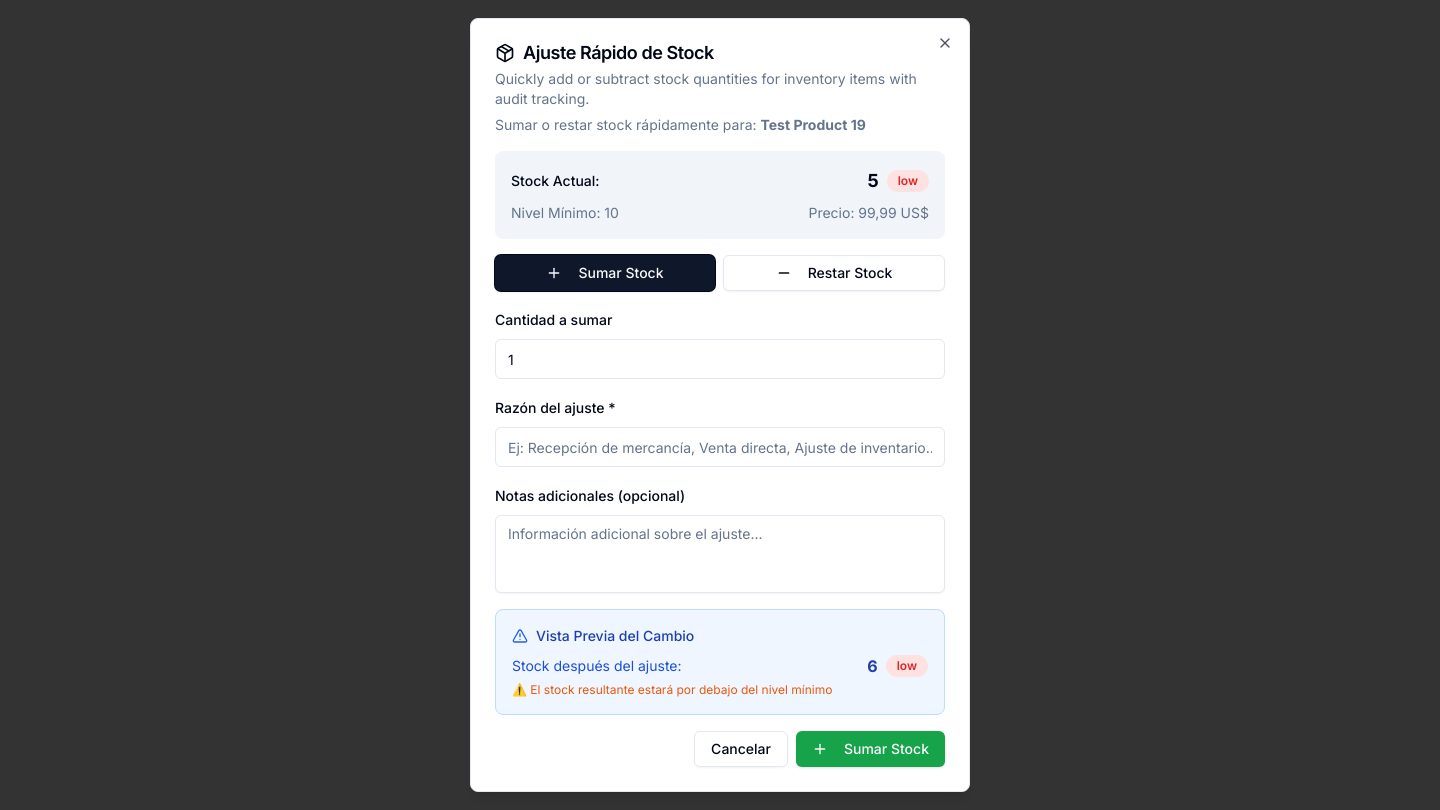
Scenario: QuickStockOperations › shows warning when projected stock will be low
Click the button "Restar Stock": (834, 273) [723,255,945,291]
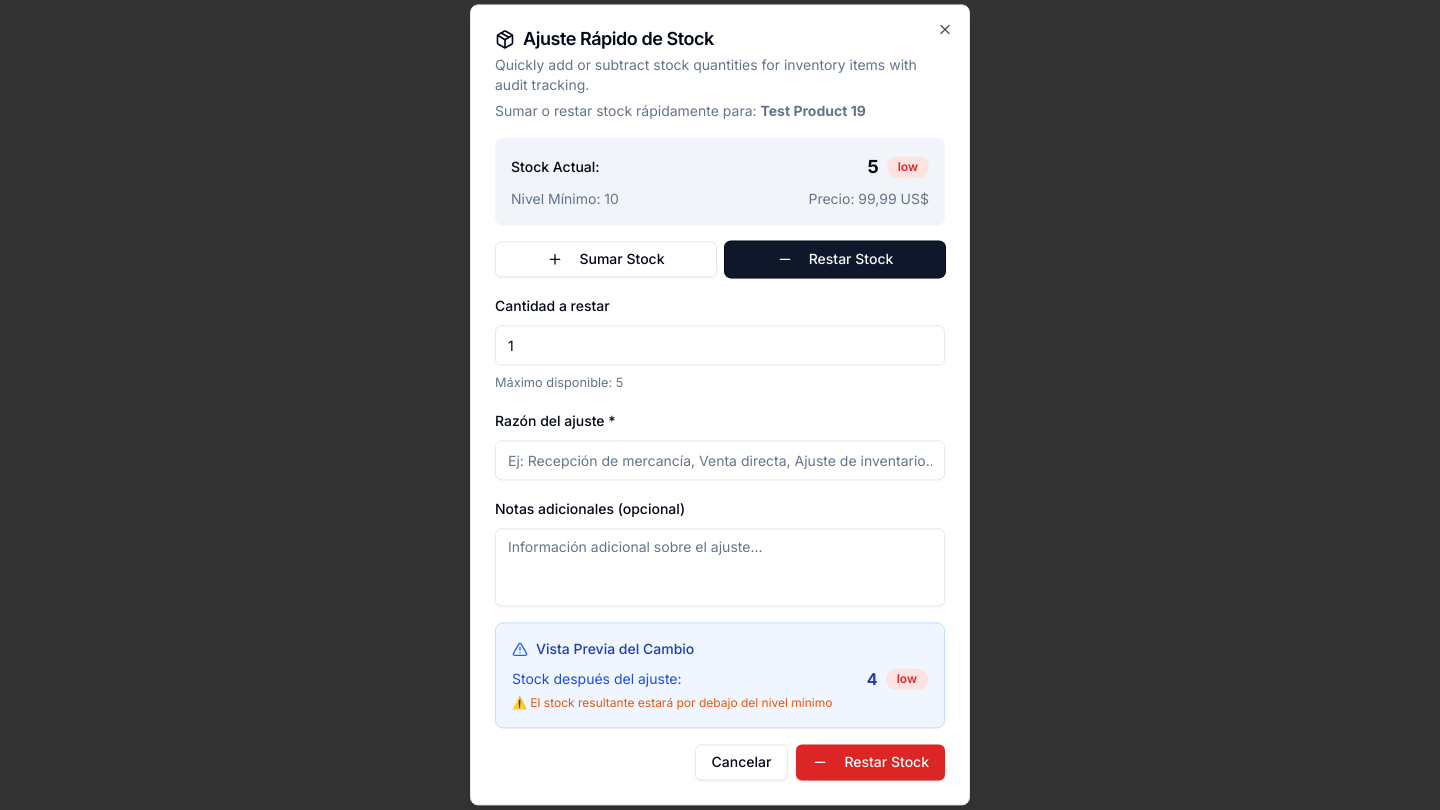
Clear the number field labelled "Cantidad a restar": (720, 345) [495,325,945,365]
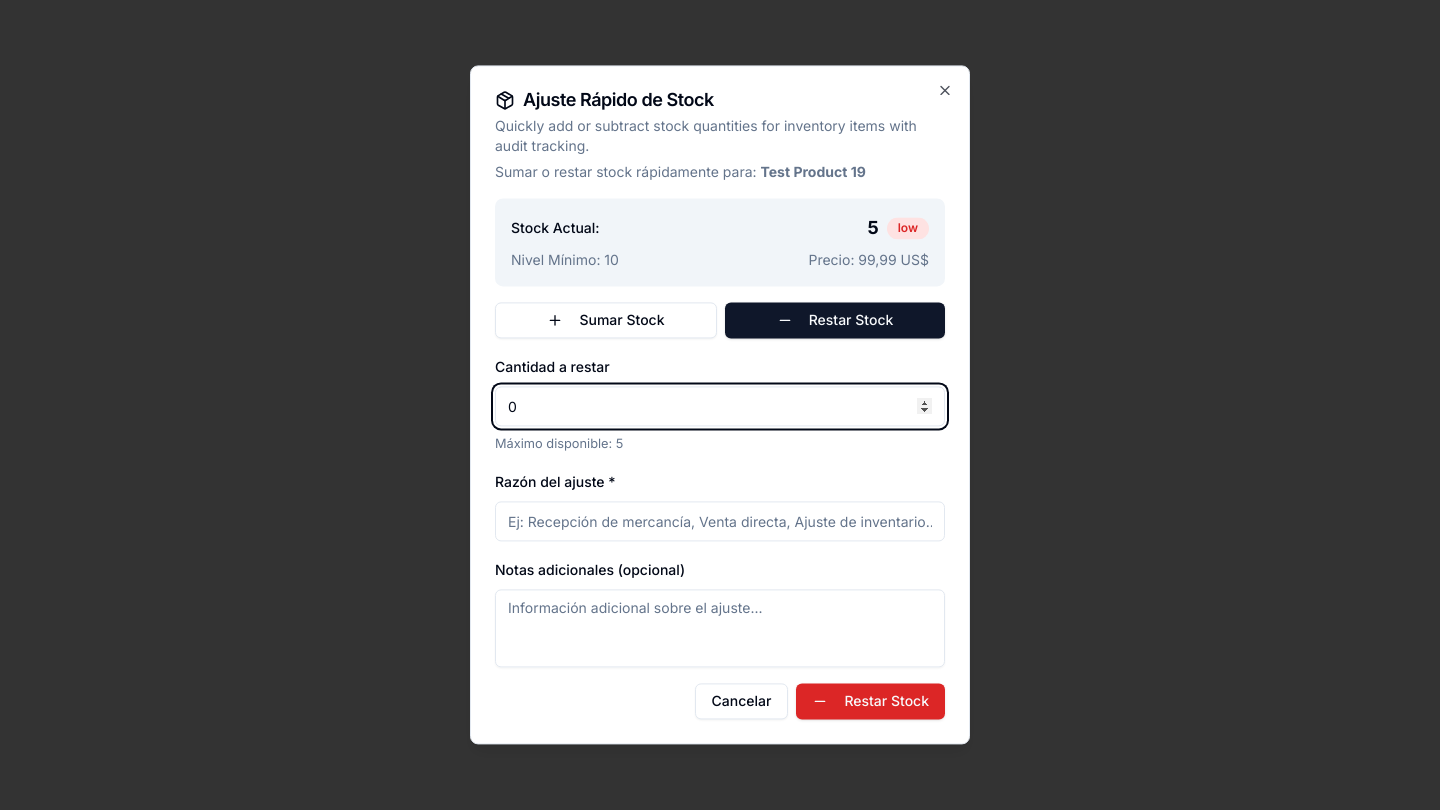
In the number field labelled "Cantidad a restar": (720, 406) [495,386,945,426], type "2"
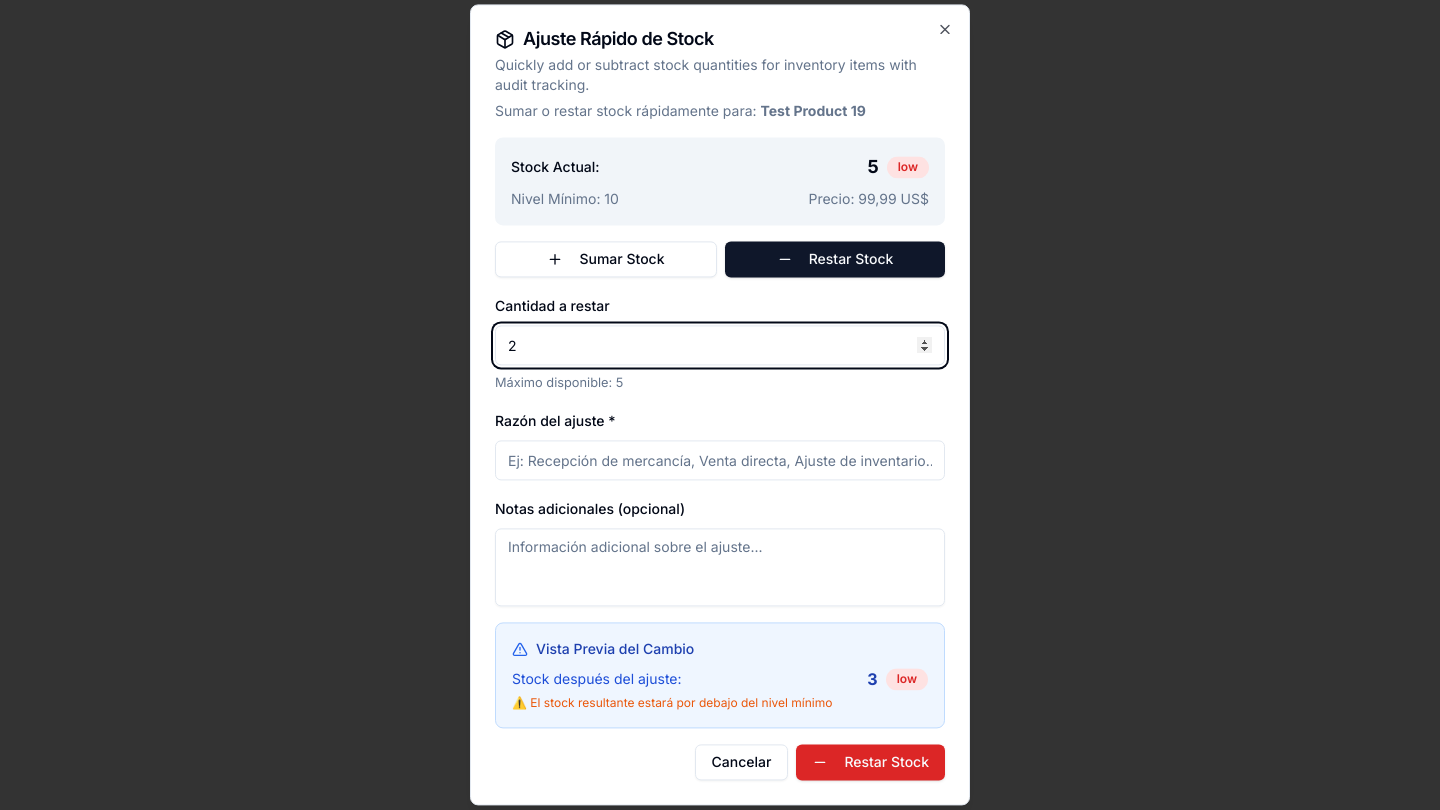
Expected: the text "⚠️ El stock resultante estará por debajo del nivel mínimo" is shown, [512,696,832,711]
